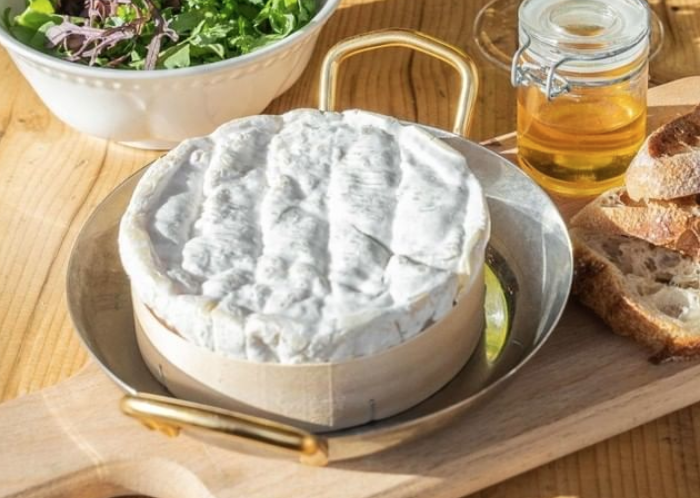camembert: (115, 108, 492, 370)
